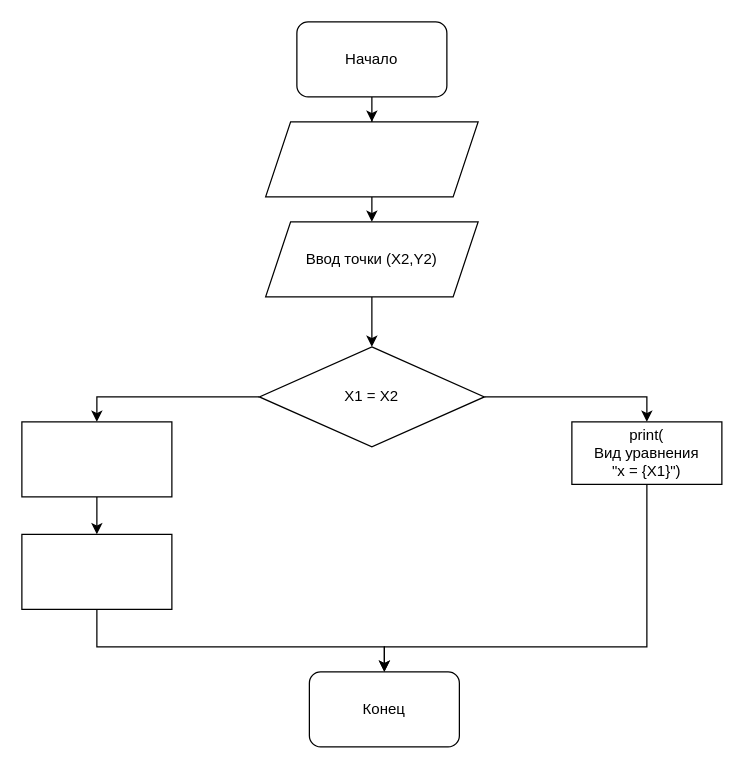
Some shapes in this 744 by 769 pixel diagram are drawn without their labels. Each missing label, with the centre of its shape:
k = (Y2-Y1)/(X2-X1) b = Y1 - k*X1: (96,459)
print( Вид уравнения "y = {k}x + {b}"): (96,571)
Ввод точки (X1,Y1): (371,159)
